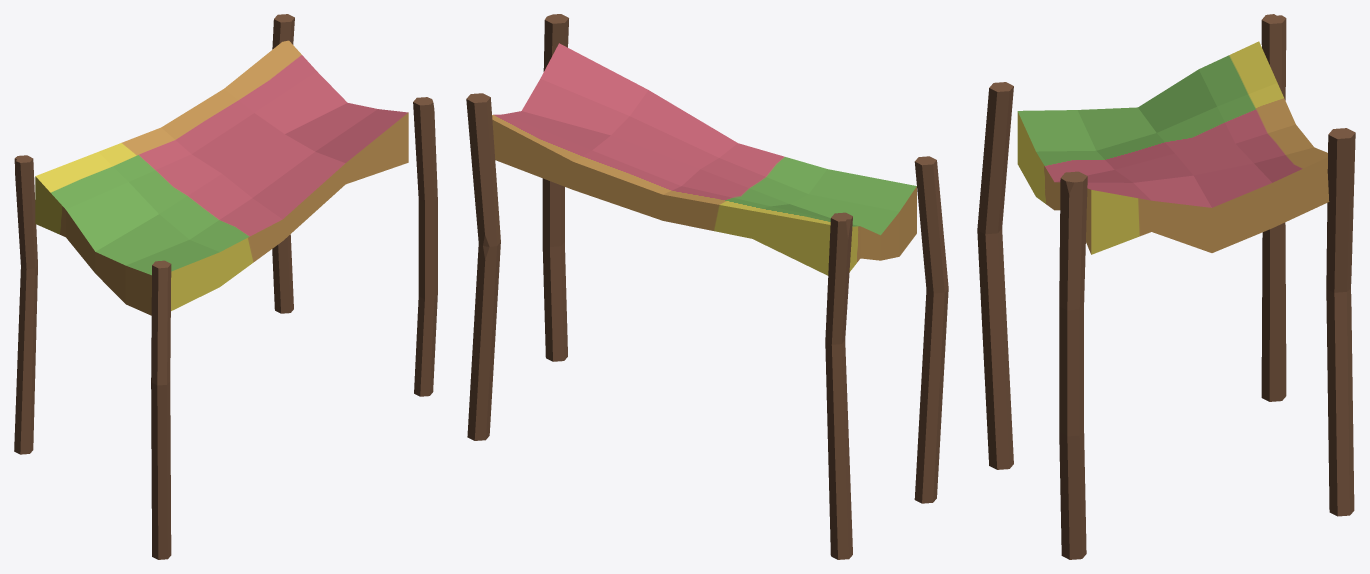
The model's file is Tent_2.fbx.
The picture shows the model from 3 angles, left to right: view 1: azimuth 30°, elevation 25°; view 2: azimuth 150°, elevation 25°; view 3: azimuth 270°, elevation 25°; orthographic projection. The views are drawn at different scales.
Parts seen in each view (by area): view 1: Tent_2; view 2: Tent_2; view 3: Tent_2.
Part boxes in pixels (left/top/right/bottom): Tent_2: left=14, top=14, right=437, bottom=559; Tent_2: left=466, top=14, right=948, bottom=559; Tent_2: left=977, top=14, right=1355, bottom=559.
Bounding box in the file's own units: 190 × 258 × 273.
